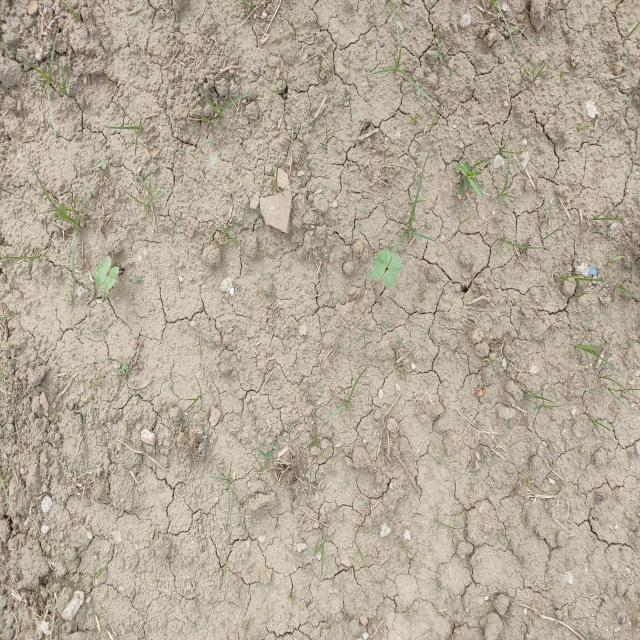seedling_s2: (383, 255, 402, 288), (371, 250, 391, 280), (94, 256, 112, 287), (104, 266, 119, 292)
